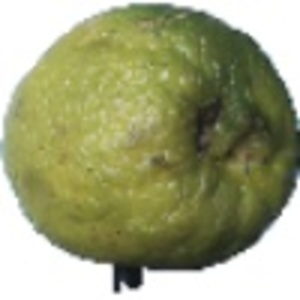limão: (1, 2, 300, 293)
